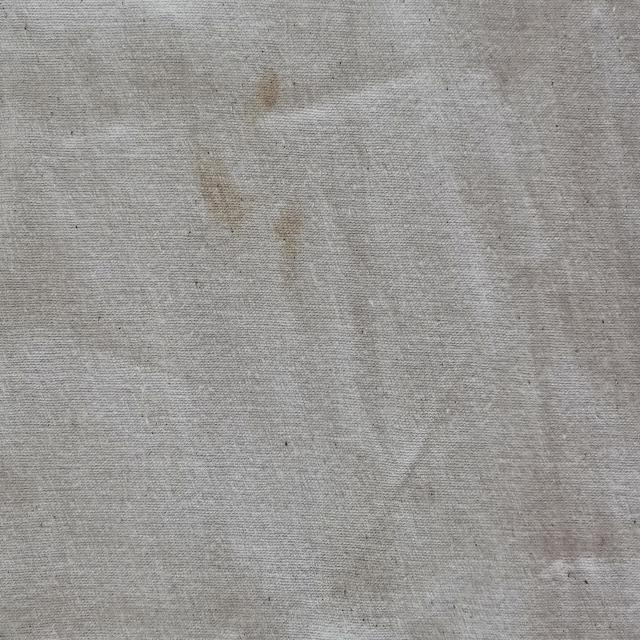taaaches: (190, 130, 248, 270), (270, 185, 314, 299), (256, 61, 288, 119)
